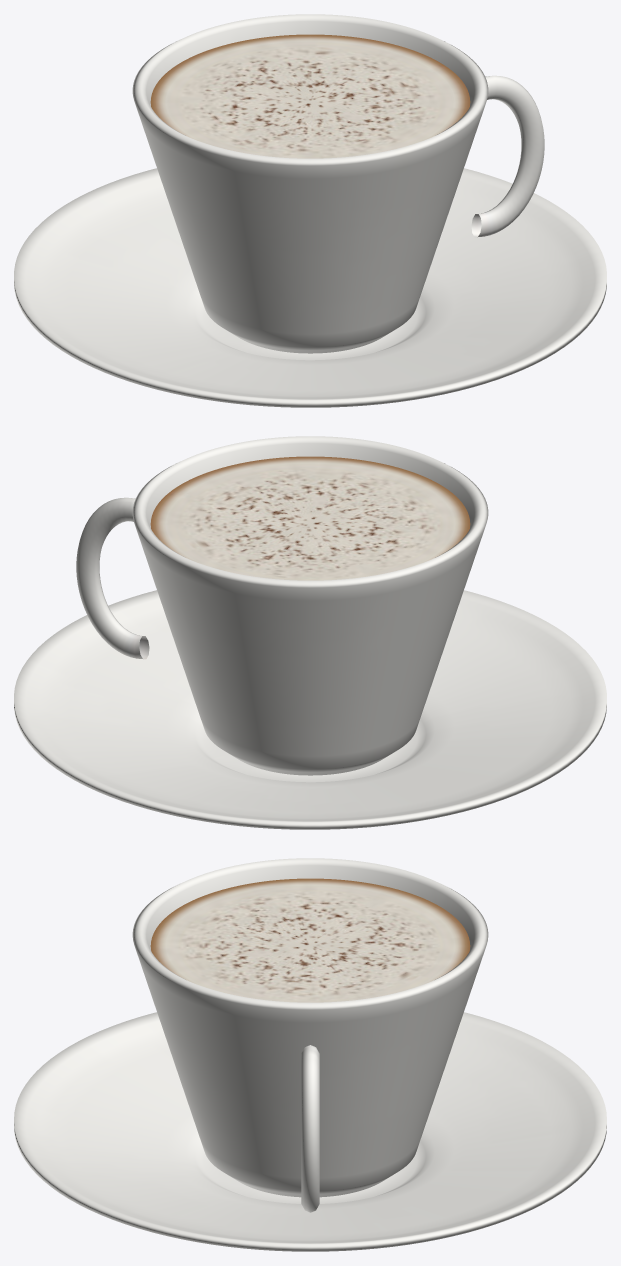
File: cappuccino.glb
The picture shows the model from 3 angles, top to bottom: view 1: azimuth 30°, elevation 25°; view 2: azimuth 150°, elevation 25°; view 3: azimuth 270°, elevation 25°; orthographic projection.
Visible parts, largest first — view 1: ceramic, satin; view 2: ceramic, satin; view 3: ceramic, satin.
Boxes of the visible parts, x1=… form: ceramic: x1=14, y1=14, x2=606, y2=407; satin: x1=150, y1=34, x2=470, y2=158; ceramic: x1=14, y1=436, x2=606, y2=829; satin: x1=150, y1=456, x2=470, y2=580; ceramic: x1=14, y1=858, x2=606, y2=1251; satin: x1=150, y1=878, x2=470, y2=1002.
Size of the model in its own units: 0.15 by 0.0682 by 0.15.
Materials: 2 (2 with a texture image).
